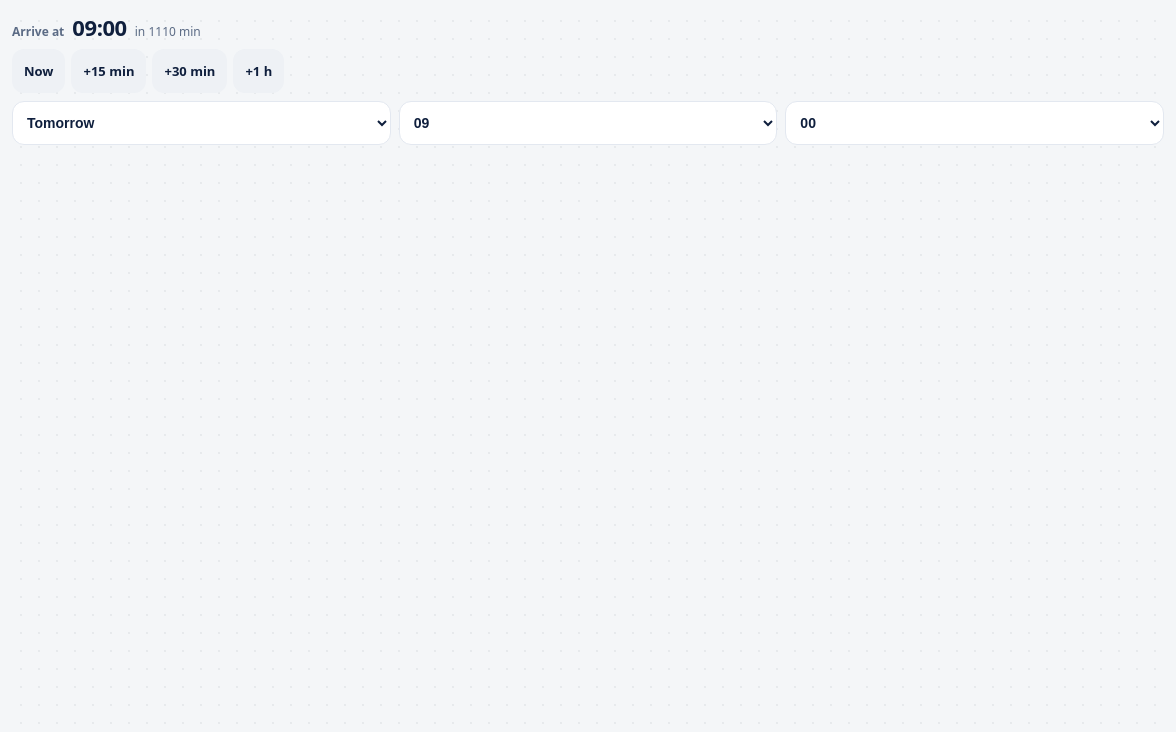
Test: R10 -- past and out-of-range times are never offered › snaps to the earliest still-valid hour and minute when the day changes out from under the old ones
Expected: the 2nd dropdown named "Hour" shows "09", x1=399 y1=101 x2=777 y2=145
Select "Today" in the 1st dropdown named "Day" at (201, 123), box x1=12 y1=101 x2=391 y2=145
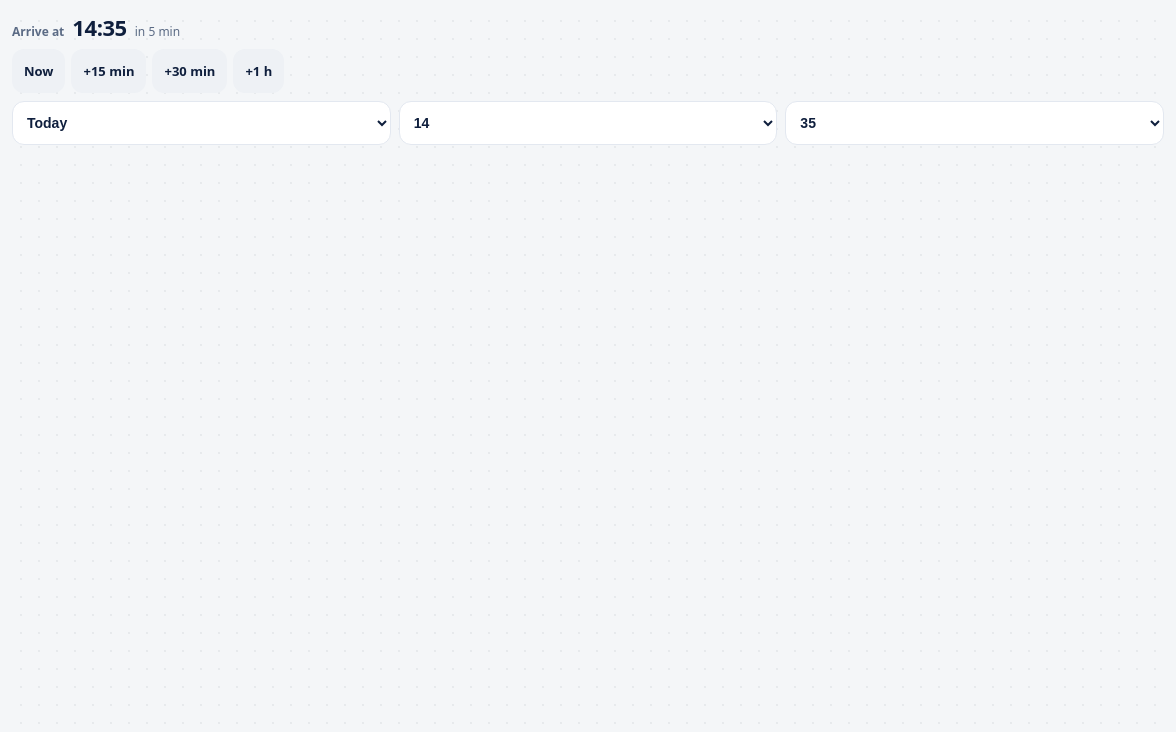
Now the text with test id "arrival-time" reads "14:35", box x1=72 y1=12 x2=127 y2=42
Now the 2nd dropdown named "Hour" shows "14", box x1=399 y1=101 x2=777 y2=145
Now the 3rd dropdown named "Minute" shows "35", box x1=785 y1=101 x2=1164 y2=145
